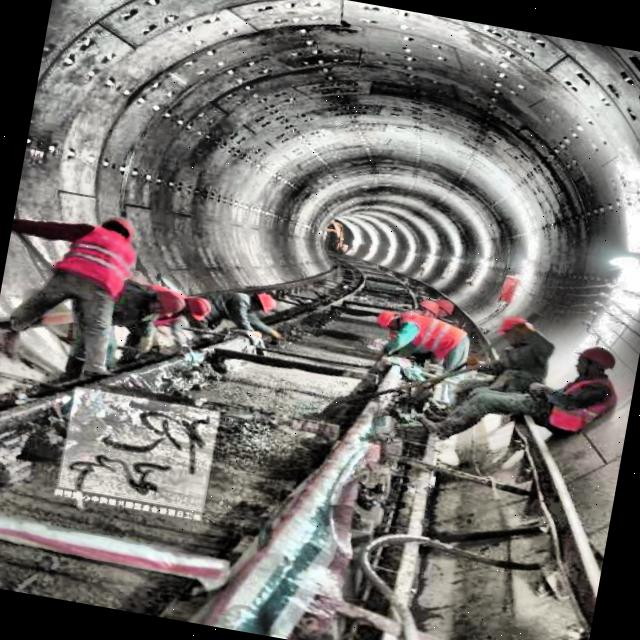helmet: (568, 337, 618, 386), (89, 210, 138, 247), (140, 286, 190, 321), (490, 309, 532, 347), (172, 292, 216, 324), (240, 288, 286, 318), (374, 308, 404, 332), (410, 298, 440, 322), (432, 296, 458, 321)
